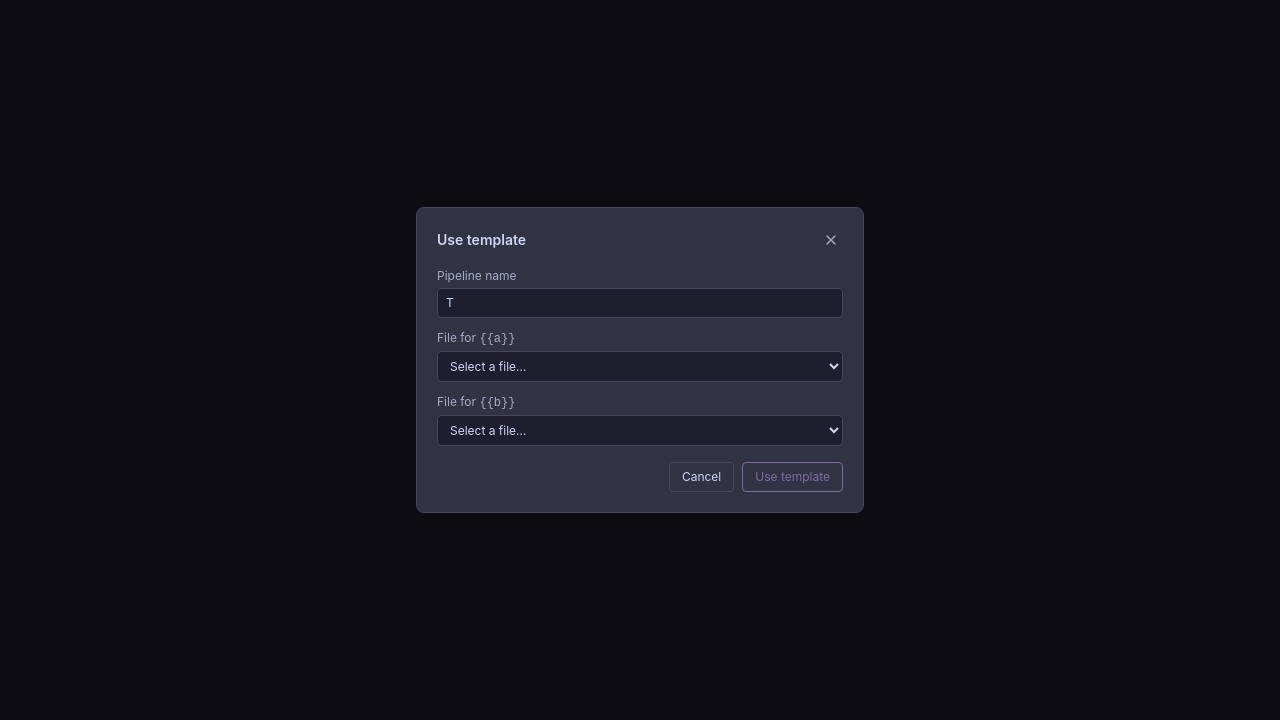
Scenario: TemplateForkModal › stays disabled until every placeholder has a file
Expected: the button "Use template" is disabled, [742,462,843,492]
Select "orders.csv (file-1…)" in the dropdown labelled "File for {{a}}" at x=640, y=366, box [437,351,843,382]
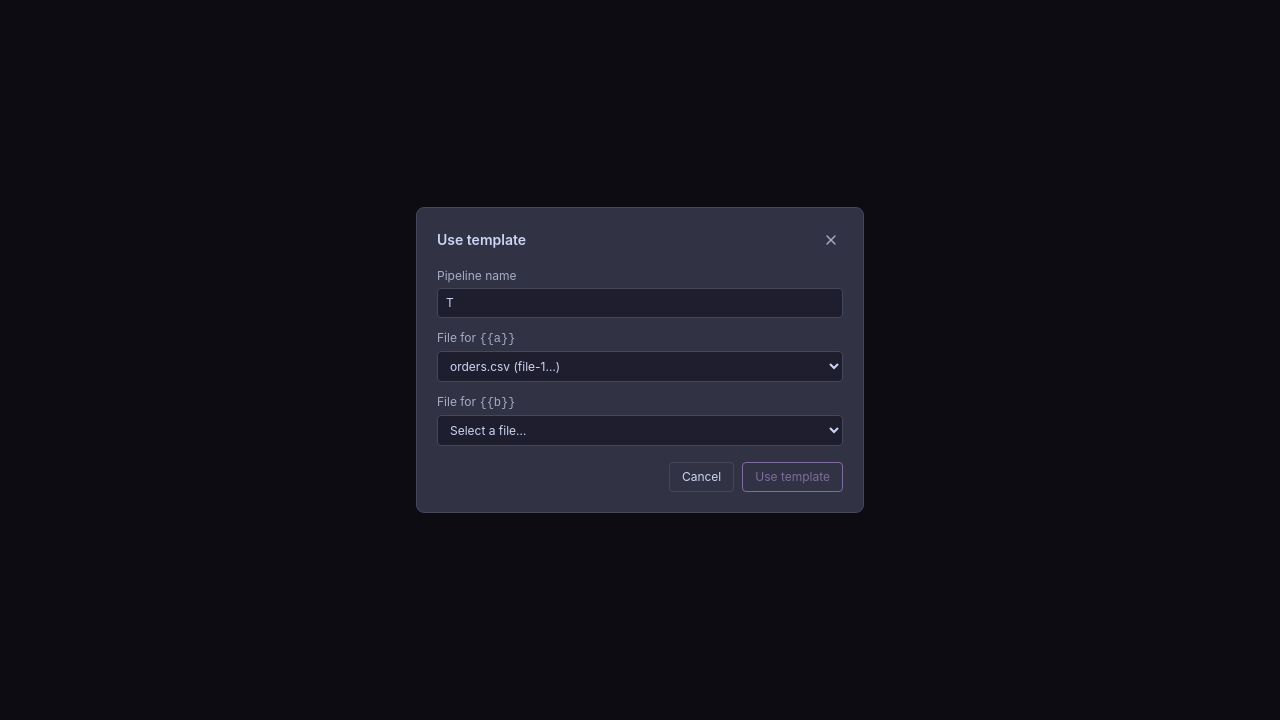
Expected: the button "Use template" is disabled, [742,462,843,492]
Select "customers.csv (file-2…)" in the dropdown labelled "File for {{b}}" at x=640, y=430, box [437,415,843,446]
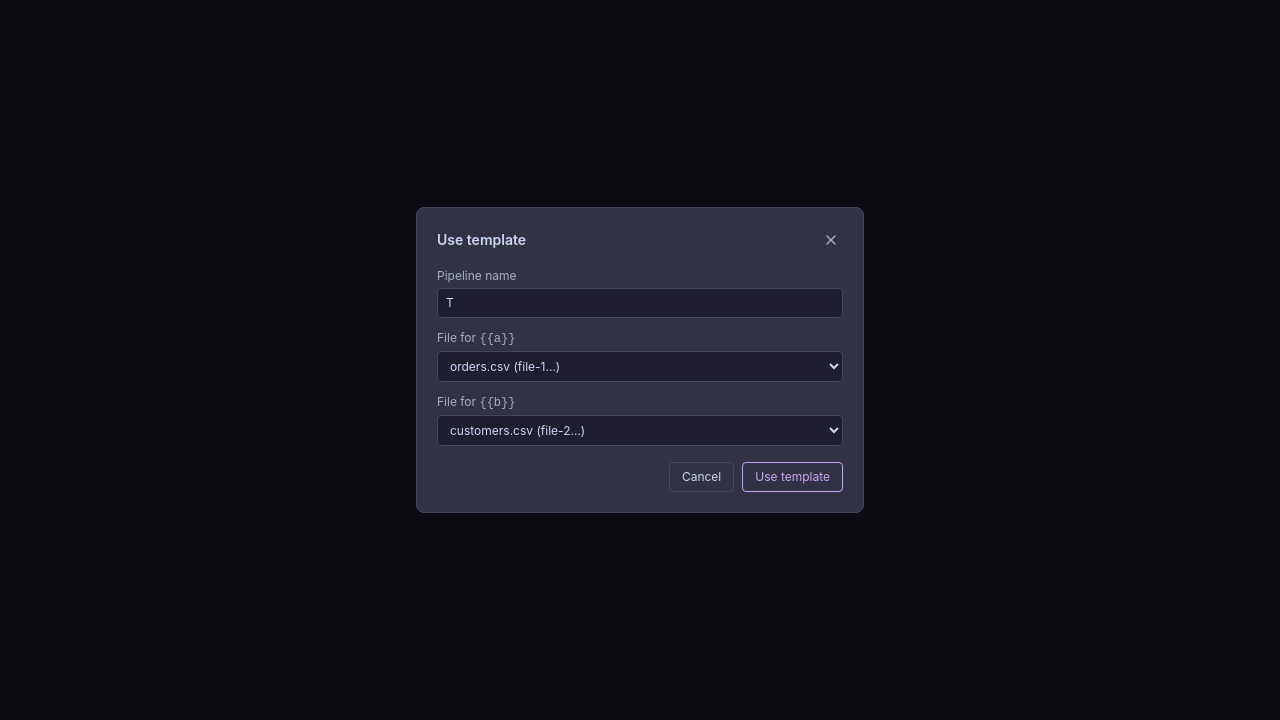
Expected: the button "Use template" is enabled, [742,462,843,492]
